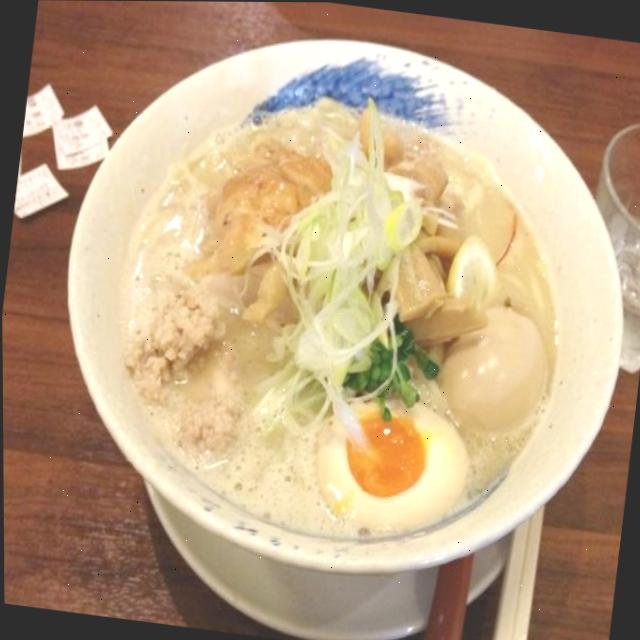面条主食: (30, 0, 640, 605)
